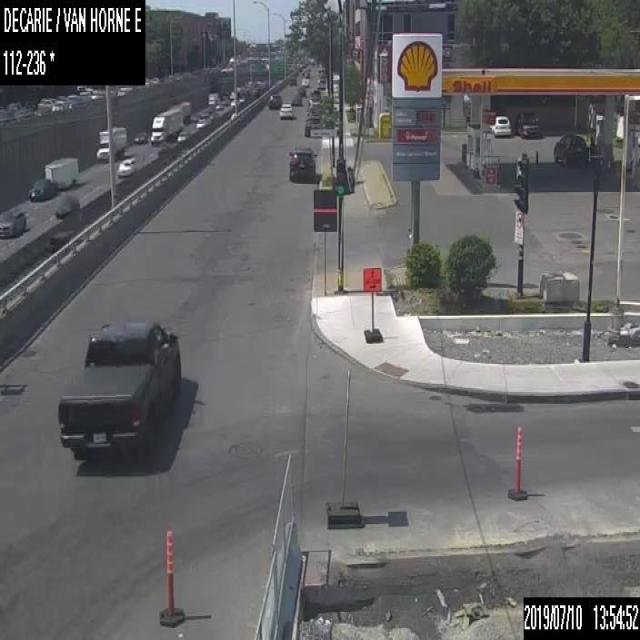construction: (254, 454, 639, 638), (326, 367, 362, 526), (159, 529, 182, 624), (504, 425, 529, 500), (361, 264, 381, 341)
vehicle: (55, 318, 182, 458), (27, 156, 79, 200), (150, 106, 182, 146), (553, 133, 588, 166), (96, 125, 126, 160), (286, 145, 316, 180), (0, 209, 25, 236), (515, 110, 538, 138), (55, 195, 78, 216), (490, 114, 510, 138), (172, 100, 190, 123), (304, 113, 321, 136), (116, 157, 136, 176), (279, 102, 292, 119), (308, 98, 320, 115), (268, 94, 281, 108), (51, 100, 66, 112), (176, 130, 189, 142), (132, 131, 146, 142), (290, 92, 301, 106), (195, 117, 207, 128), (310, 88, 321, 100), (5, 101, 20, 109), (208, 92, 218, 104), (296, 85, 306, 96), (36, 98, 48, 106), (316, 78, 324, 89), (215, 104, 224, 112), (230, 98, 238, 106), (301, 78, 309, 86), (238, 94, 245, 102), (290, 76, 296, 85), (304, 71, 309, 77)
